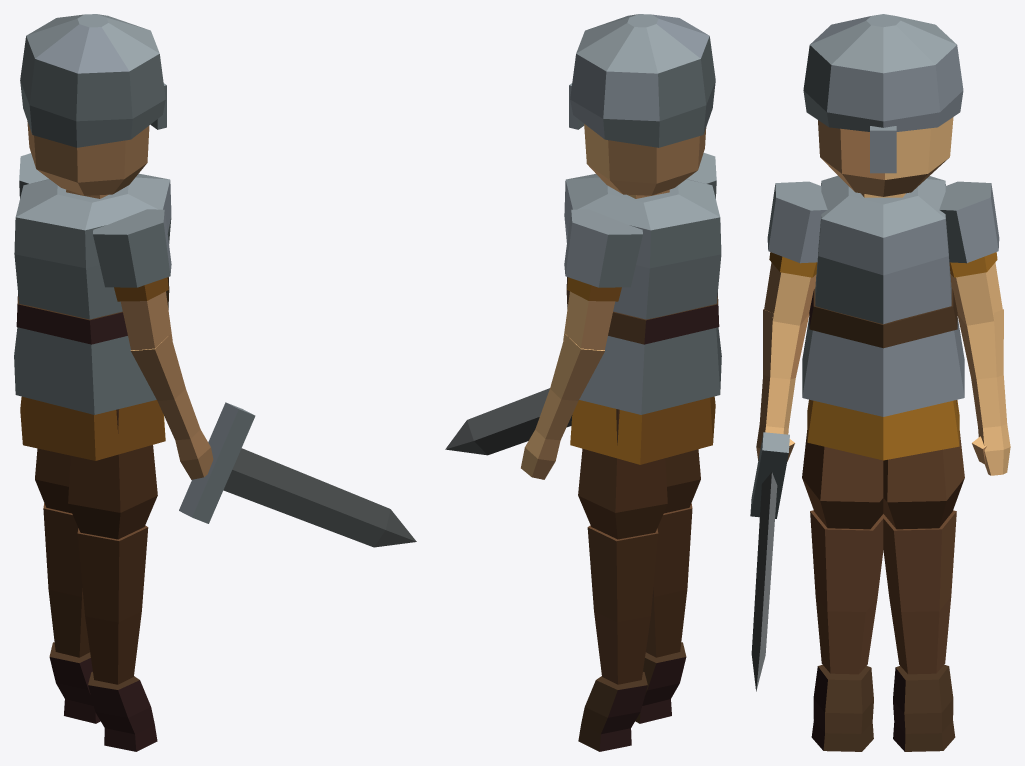
Rendered from armored_villager.glb.
The picture shows the model from 3 angles, left to right: view 1: azimuth 30°, elevation 25°; view 2: azimuth 150°, elevation 25°; view 3: azimuth 270°, elevation 25°; orthographic projection.
Visible parts, largest first — view 1: av_armored_villager; view 2: av_armored_villager; view 3: av_armored_villager.
Part boxes in pixels (<box>): av_armored_villager: <box>14,14,416,751</box>; av_armored_villager: <box>445,14,721,751</box>; av_armored_villager: <box>750,14,1010,751</box>.
Size of the model in its own units: 0.5038 by 1 by 0.3317.
